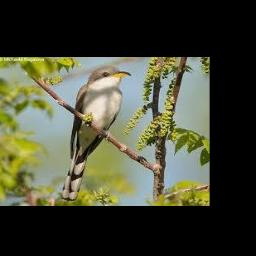Cuckoo: (60, 67, 132, 202)
